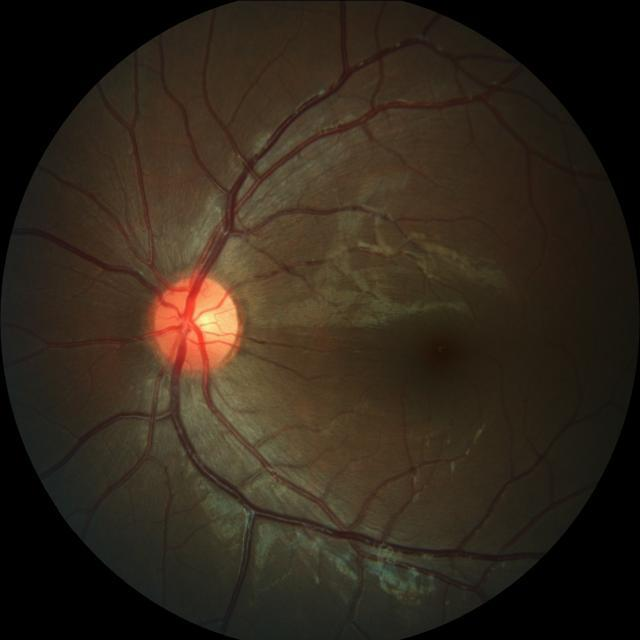OC: (187, 308, 218, 342)
OD: (154, 274, 242, 372)
